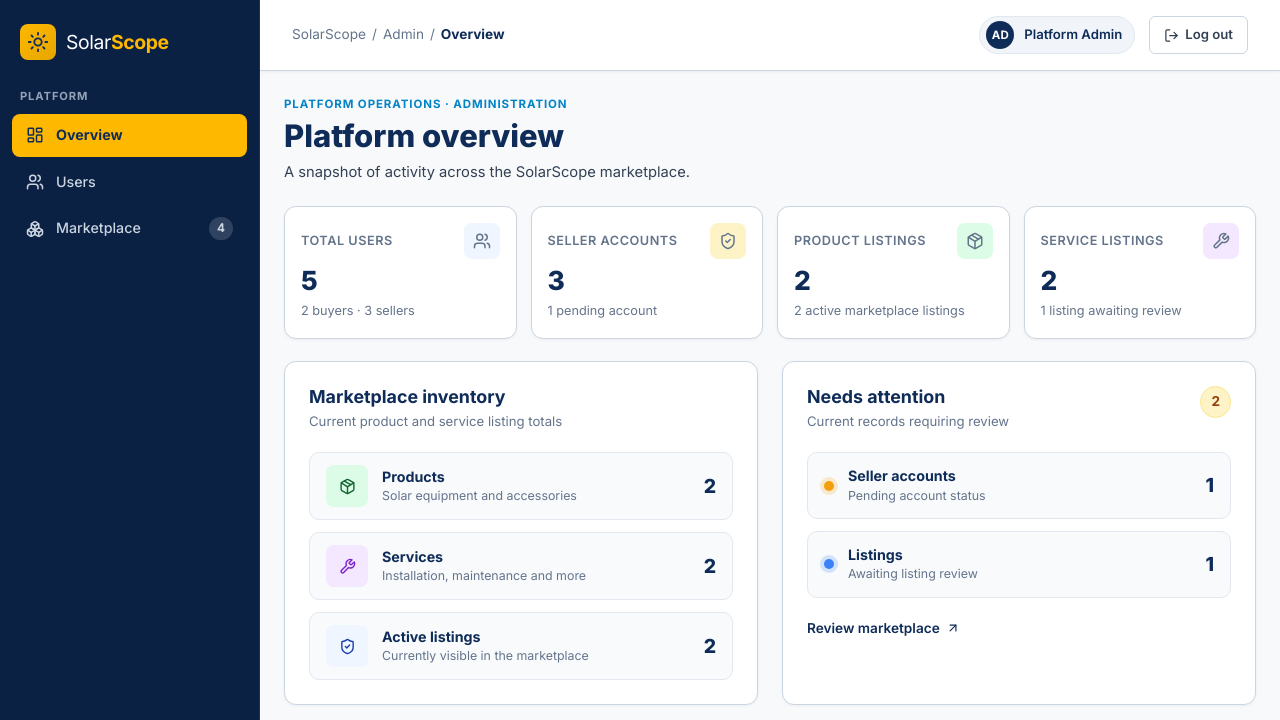
it: Admin dashboard preview route › opens user management and its create-user form
The width and height of the screenshot is (1280, 720).
What coordinates should you click on to do the following:
click the button "Users"
I would click on:
 (130, 182)
Its box is x1=12 y1=161 x2=247 y2=204.
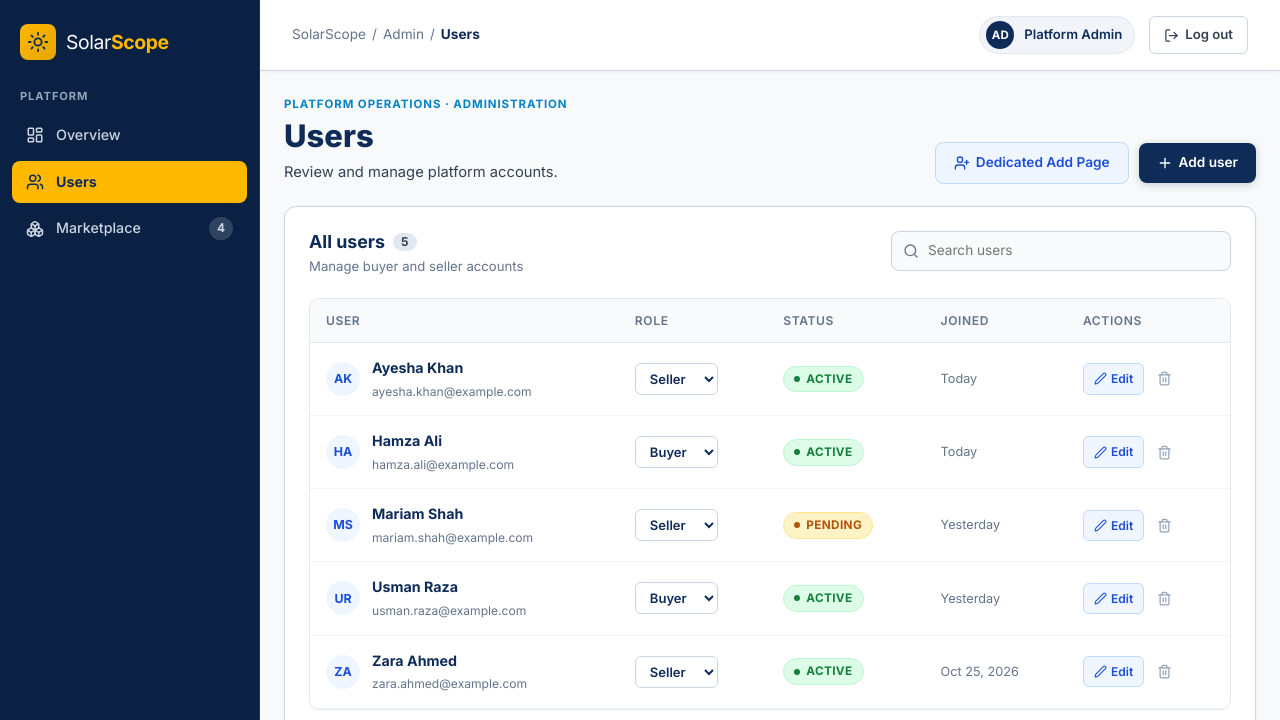
Now the heading "Users" is shown, box x1=284 y1=117 x2=374 y2=154
What coordinates should you click on to do the following:
click the button "Add user"
I would click on:
 (1197, 163)
Its box is x1=1139 y1=143 x2=1256 y2=183.
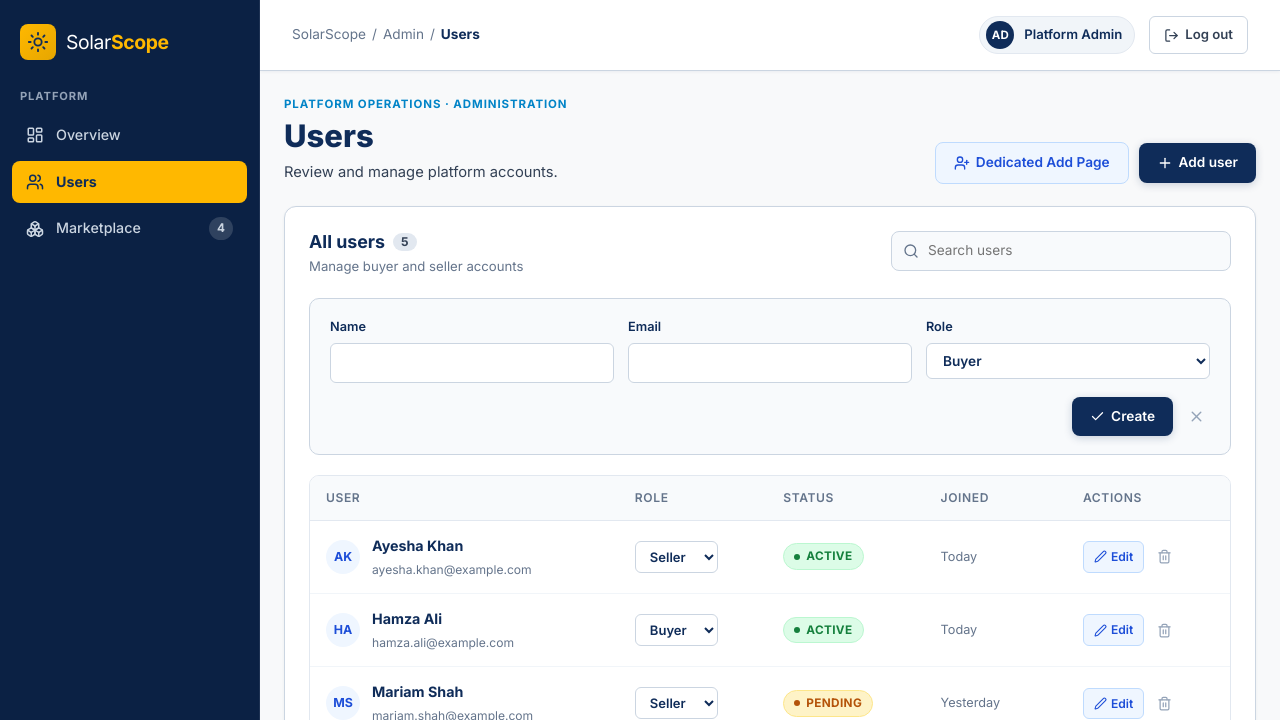
Now the button "Create" is shown, box x1=1072 y1=397 x2=1173 y2=436
